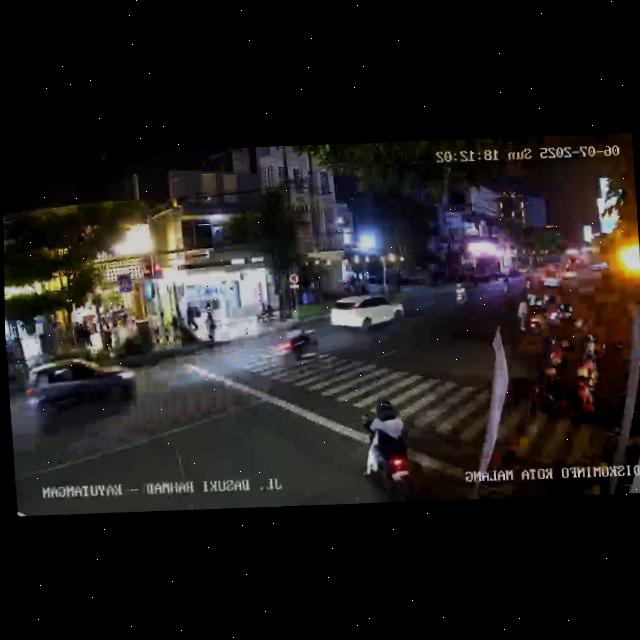car: (20, 355, 137, 419), (328, 292, 406, 337)
motorcycle: (359, 401, 423, 501), (280, 323, 320, 365), (453, 280, 470, 308)
person: (205, 305, 218, 343), (185, 303, 199, 337), (73, 321, 88, 352), (103, 324, 114, 354), (84, 320, 95, 348)
